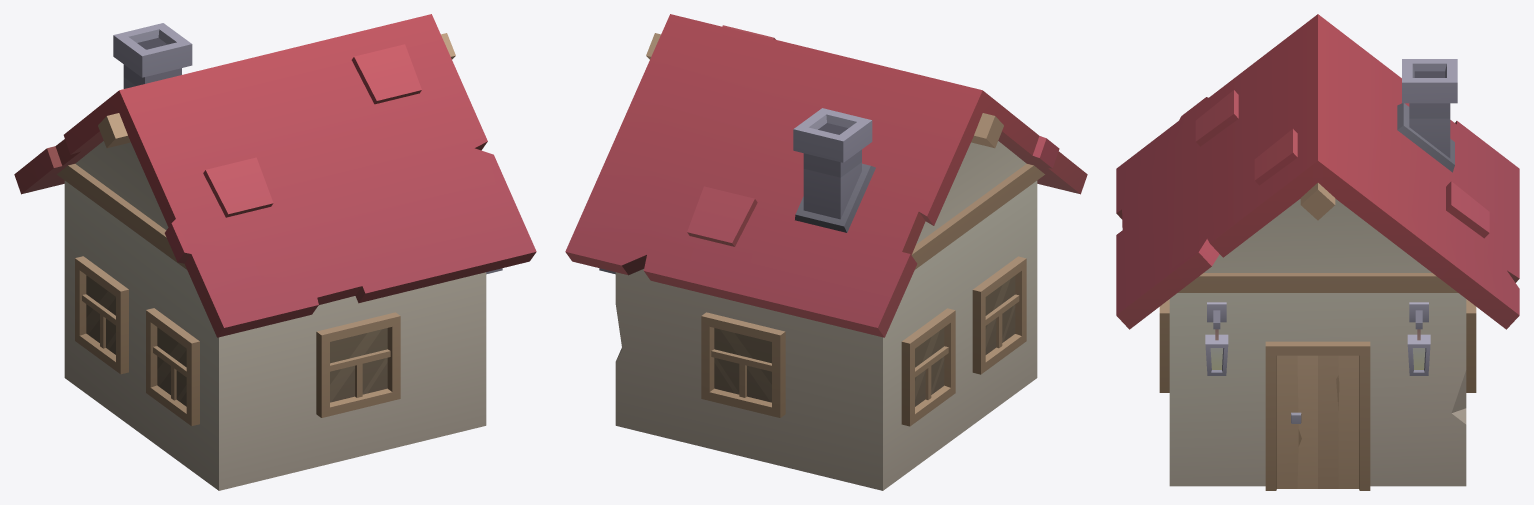
File: stylized_lowpoly_house-1.glb
The picture shows the model from 3 angles, left to right: view 1: azimuth 30°, elevation 25°; view 2: azimuth 150°, elevation 25°; view 3: azimuth 270°, elevation 25°; orthographic projection. The views are drawn at different scales.
Parts seen in each view (by area): view 1: house_t1; view 2: house_t1; view 3: house_t1.
Part boxes in pixels (left/top/right/bottom): house_t1: left=14, top=14, right=536, bottom=490; house_t1: left=565, top=14, right=1087, bottom=490; house_t1: left=1116, top=14, right=1519, bottom=490.
Size of the model in its own units: 2.55 by 2.5 by 2.72.
